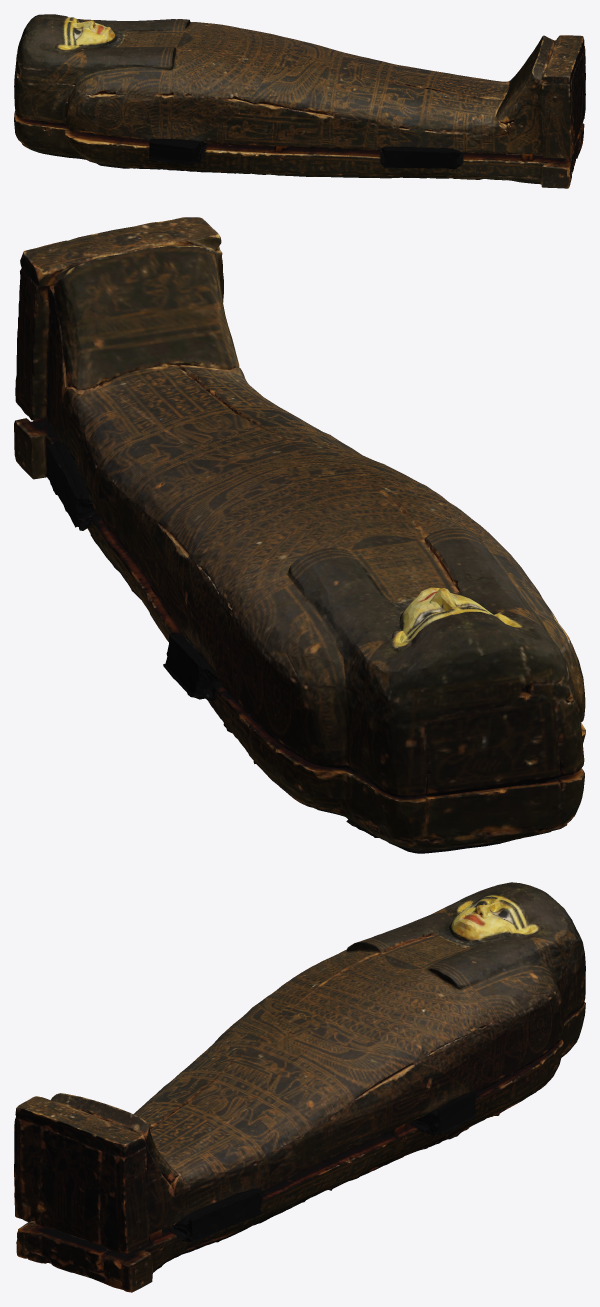
File: UCB_LOW_fix.obj
3 renders of one model, top to bottom at view 1: azimuth 30°, elevation 25°; view 2: azimuth 150°, elevation 25°; view 3: azimuth 270°, elevation 25°, orthographic. The views are drawn at different scales.
Parts seen in each view (by area): view 1: default; view 2: default; view 3: default.
Boxes of the visible parts, x1=… form: default: x1=14, y1=14, x2=585, y2=188; default: x1=14, y1=217, x2=585, y2=853; default: x1=14, y1=882, x2=585, y2=1292.
Bounding box in the file's own units: 2.18 × 0.5614 × 1.86.
Materials: 1 (1 with a texture image).
